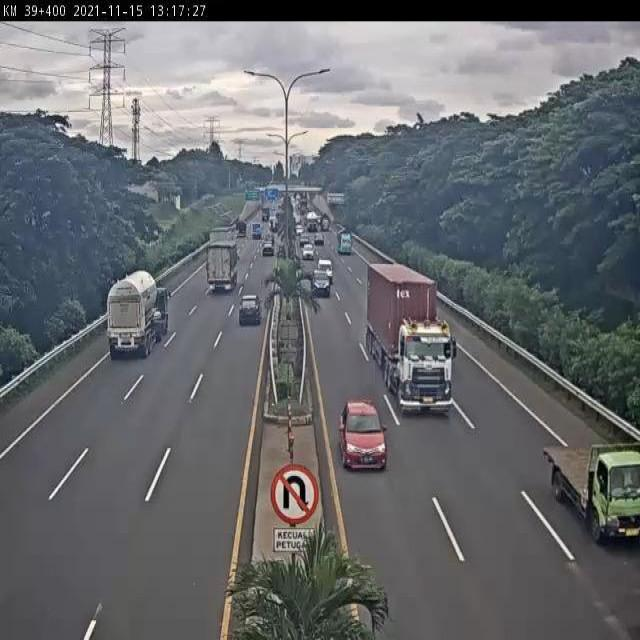bus-s-: (314, 256, 335, 283)
car: (338, 403, 390, 472), (236, 291, 263, 329), (310, 265, 331, 299)
truck-l-: (98, 272, 172, 360)
truck-m-: (204, 239, 241, 293)
truck-s-: (542, 442, 640, 550)
truck-xl-: (365, 264, 457, 415)
